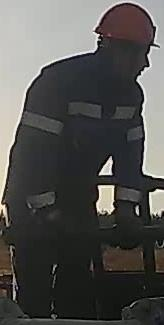gloves: (107, 193, 147, 251)
helmet: (92, 0, 162, 50)
vest: (0, 53, 146, 229)
